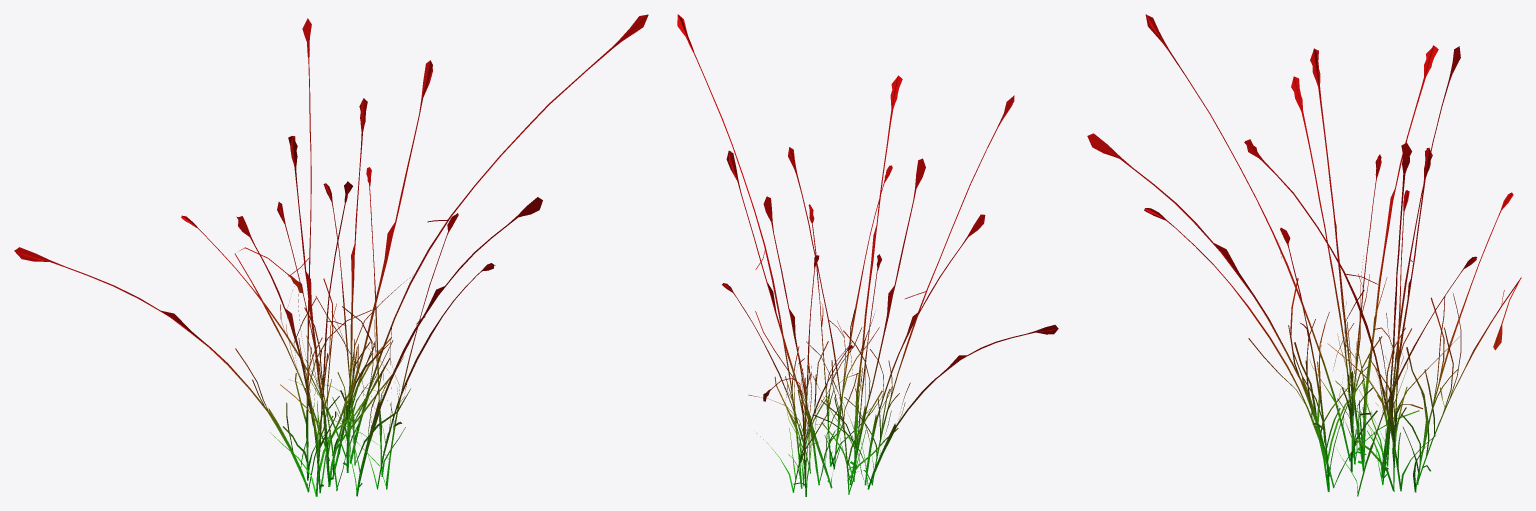
The model's file is Tundra Grass_LOD2_Var32_wk2oaeyqx.fbx.
The picture shows the model from 3 angles, left to right: view 1: azimuth 30°, elevation 25°; view 2: azimuth 150°, elevation 25°; view 3: azimuth 270°, elevation 25°; orthographic projection. The views are drawn at different scales.
Parts seen in each view (by area): view 1: _wrc5_Var32_LOD2; view 2: _wrc5_Var32_LOD2; view 3: _wrc5_Var32_LOD2.
Part boxes in pixels (box(x1,y1,x2,y2)): _wrc5_Var32_LOD2: box(14, 14, 648, 496); _wrc5_Var32_LOD2: box(677, 14, 1058, 496); _wrc5_Var32_LOD2: box(1087, 14, 1521, 496).
Bounding box in the file's own units: 81.58 × 64.91 × 55.34.
